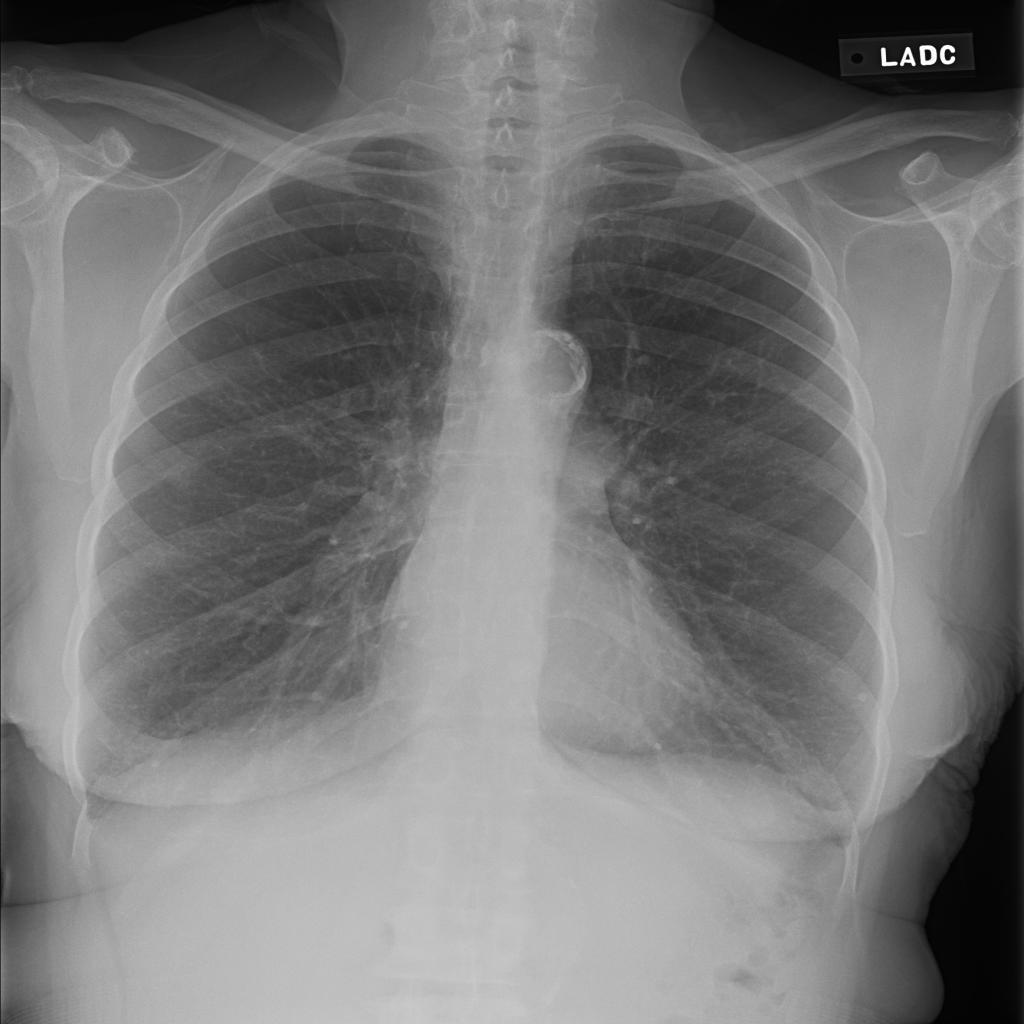Nodule: (377, 267, 407, 296), (406, 192, 442, 216)
